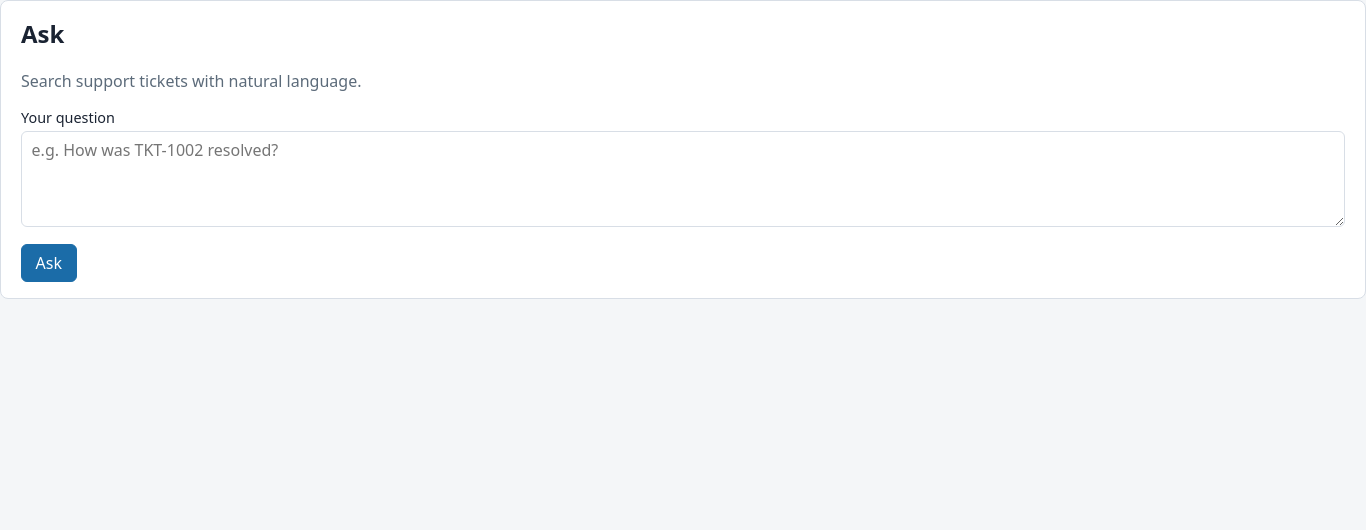
Test: RagAssistant display states › renders ANSWER with citation links
expect the form is shown: met, box x1=21 y1=108 x2=1345 y2=282
In the text box labelled "Your question": [683, 179] box x1=21 y1=131 x2=1345 y2=227, type "How long?"
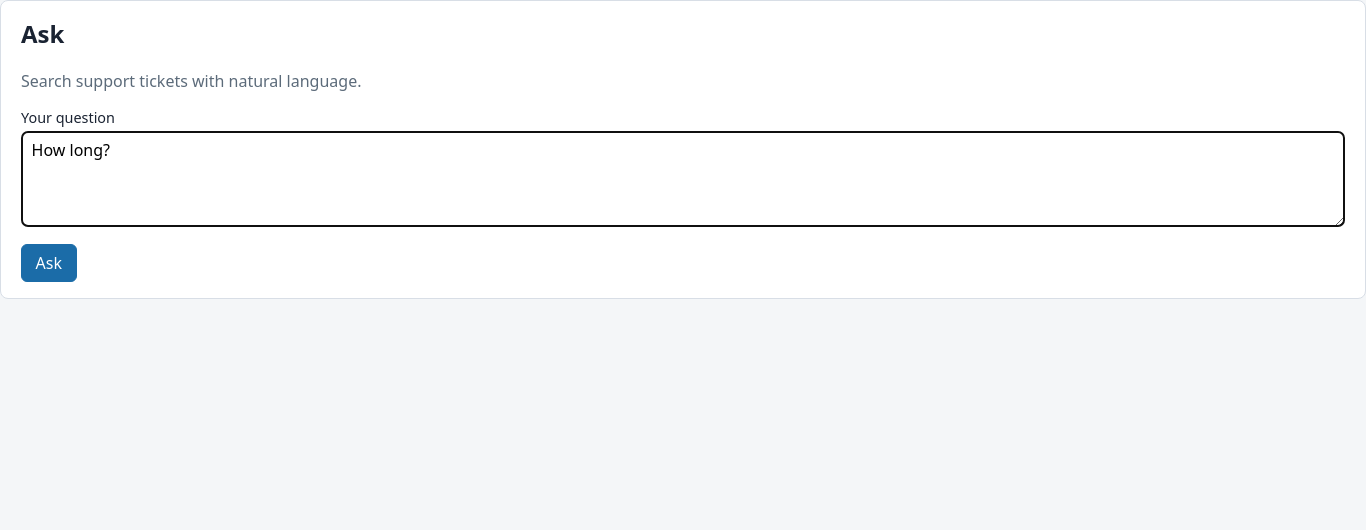
Click the button "Ask": [49, 263] box x1=21 y1=244 x2=77 y2=282
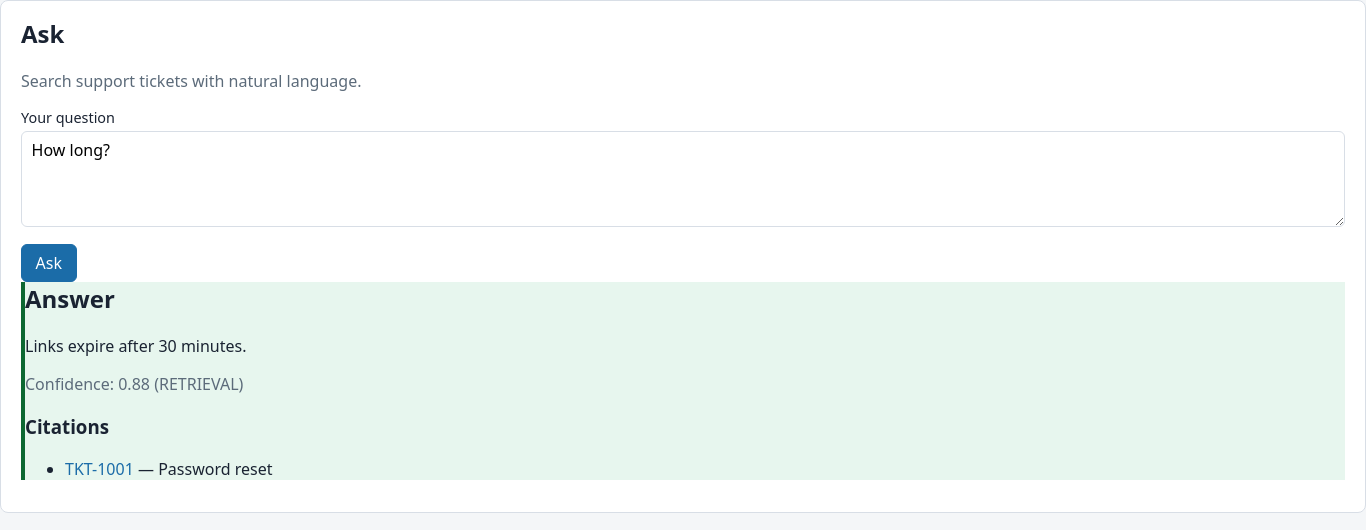
expect the heading "Answer" is shown: met, box x1=25 y1=282 x2=115 y2=315
expect the text "Links expire after 30 minutes." is shown: met, box x1=25 y1=335 x2=246 y2=357
